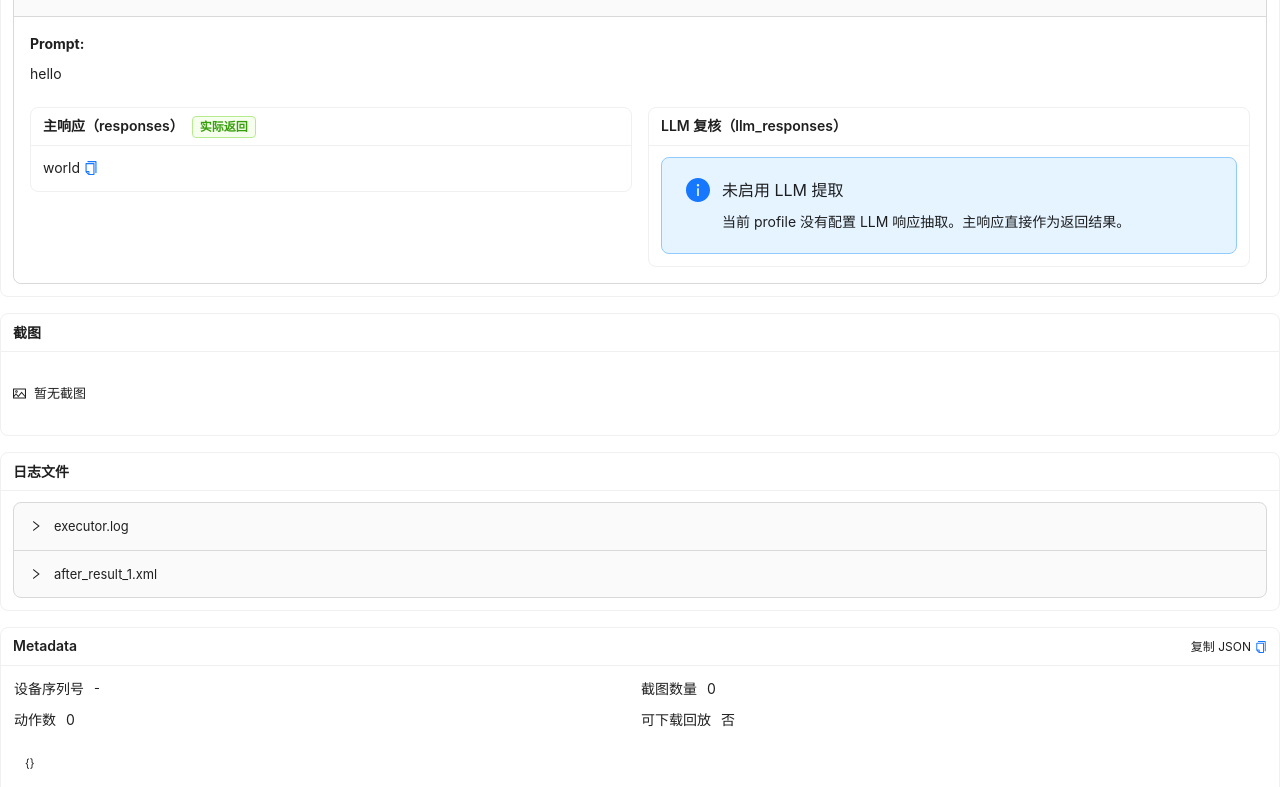
Test: SampleDetail › shows Profile/New session correctly and fetches an artifact only once its panel is expanded
This screenshot has width=1280, height=787.
(page scrolled)
Expected: the text "日志文件" is shown, [13,463,69,480]
Expected: the text "executor.log" is shown, [54,520,129,534]
Click the button "executor.log".
click(79, 527)  # box [30,520,129,534]
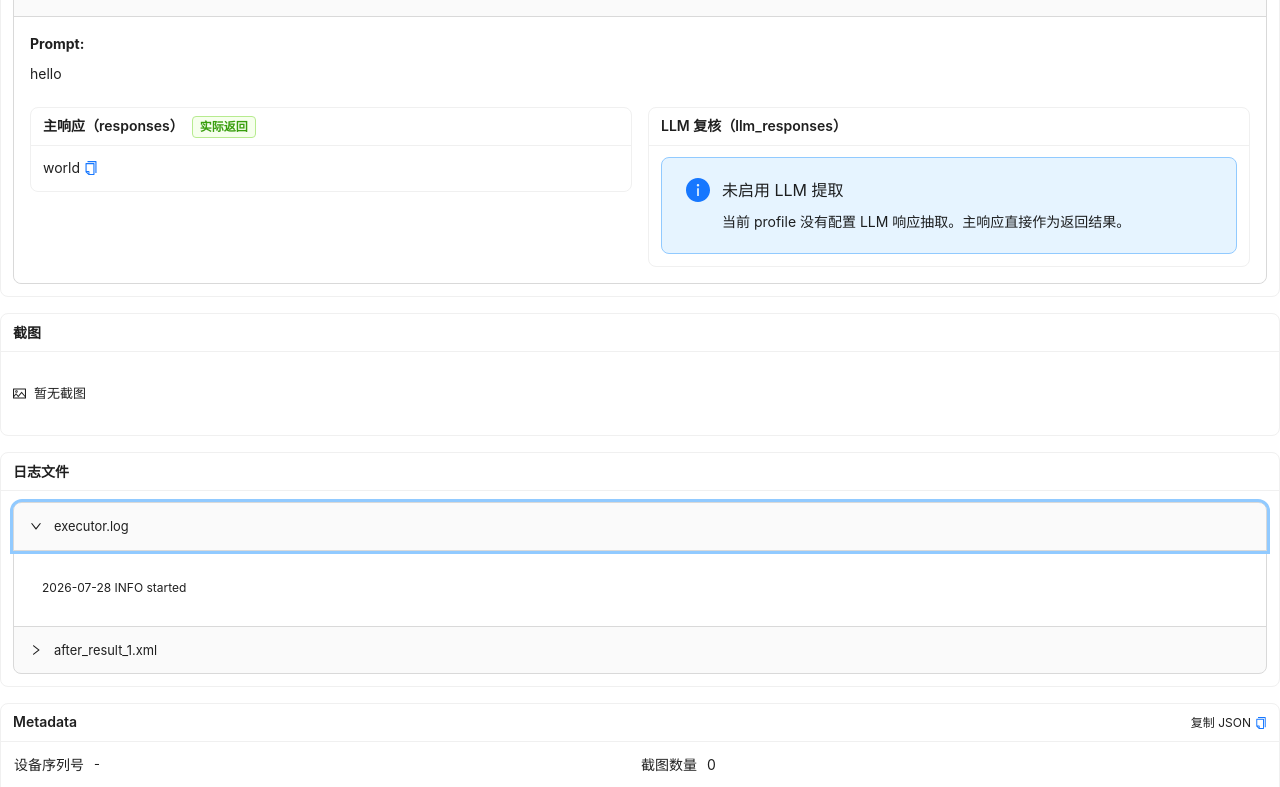
Expected: the text "2026-07-28 INFO started" is shown, [42,580,186,595]
